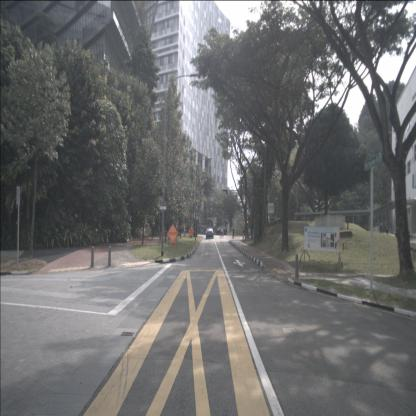human-pedestrian-adult: (242, 226, 246, 241), (232, 226, 235, 239), (248, 226, 250, 239)
vehicle-bicycle: (220, 226, 224, 238)
vehicle-car: (206, 227, 213, 239), (216, 227, 223, 235)
